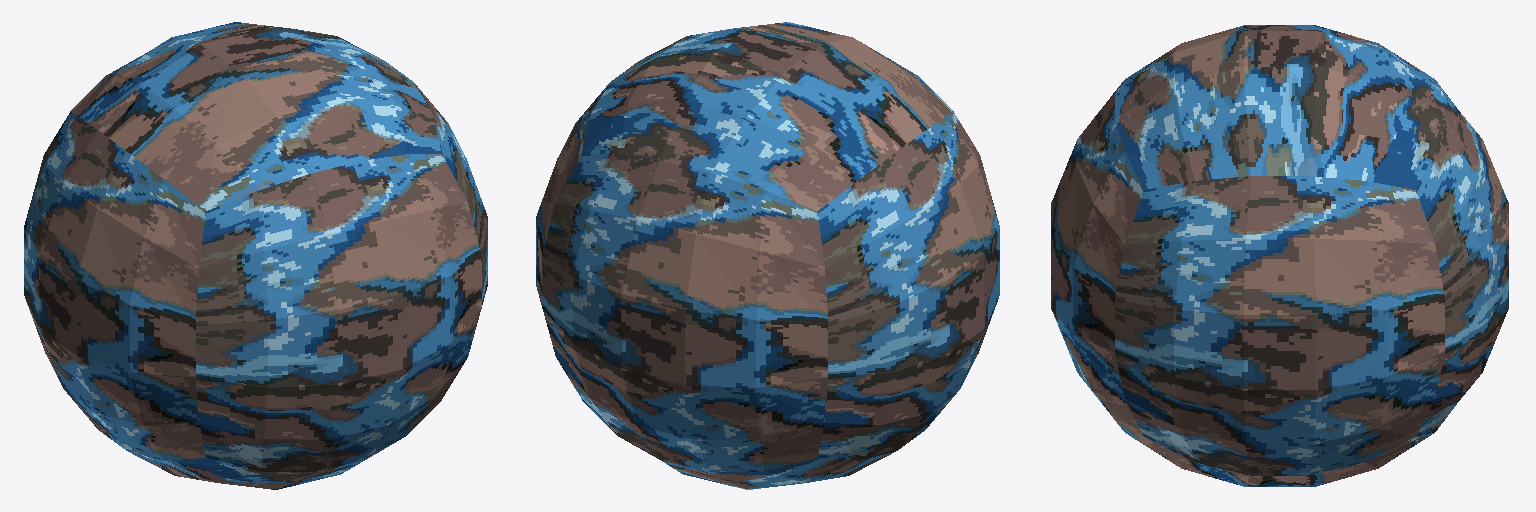
The picture shows the model from 3 angles: view 1: azimuth 30°, elevation 25°; view 2: azimuth 150°, elevation 25°; view 3: azimuth 270°, elevation 25°; orthographic projection.
Parts seen in each view (by area): view 1: 300.018; view 2: 300.018; view 3: 300.018.
Boxes of the visible parts, x1=… form: 300.018: x1=24, y1=22, x2=487, y2=489; 300.018: x1=536, y1=22, x2=999, y2=489; 300.018: x1=1051, y1=25, x2=1508, y2=486.
Bounding box in the file's own units: 3.36 × 3.36 × 3.36.
1 materials, 1 textured.